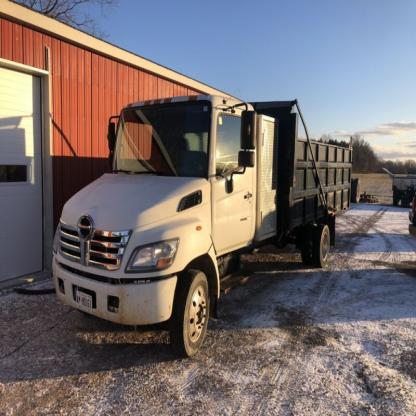dump_truck: (41, 69, 373, 364)
